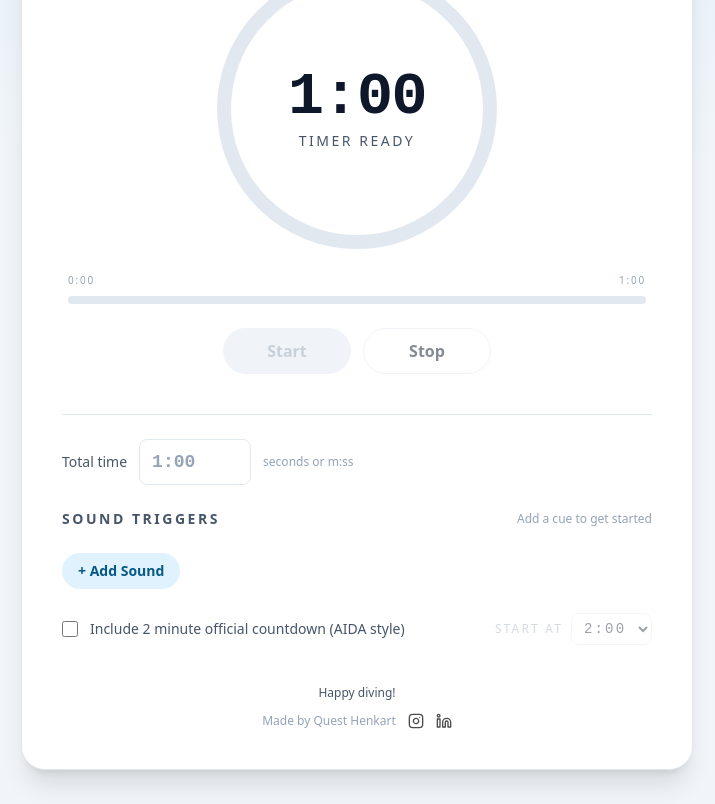
Test: TimerSoundApp › only allows changing the countdown duration when countdown is enabled
(page scrolled)
Expected: the dropdown named "countdown start time" is disabled, [571,613,652,645]
Click the checkbox labelled "Include 2 minute official countdown (AIDA style)".
click(70, 629)  # box [62,621,78,637]
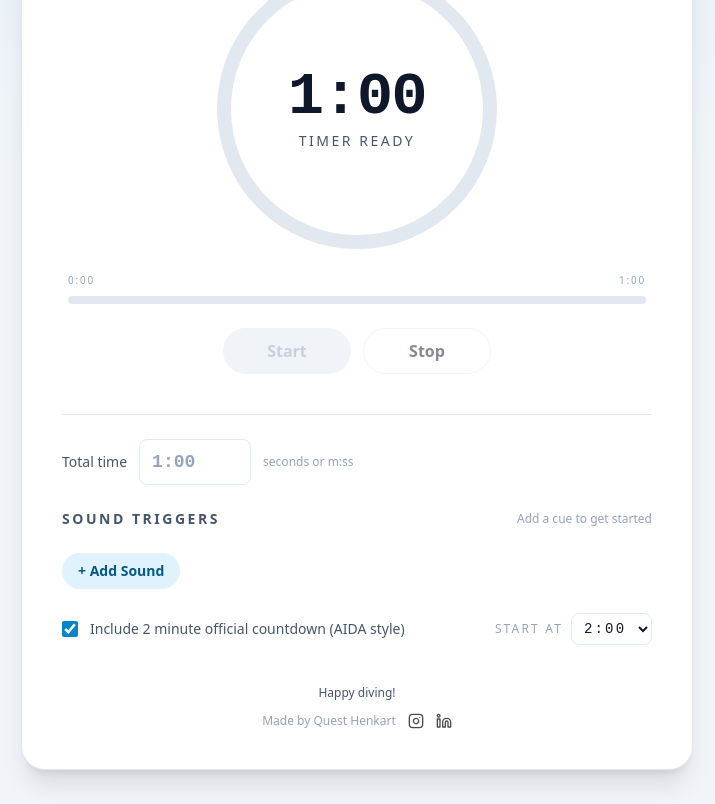
Result: the dropdown named "countdown start time" is enabled at [571,613,652,645]
